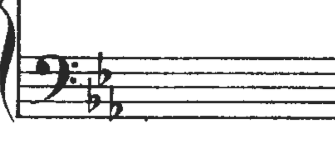bass_clef: (29, 48, 81, 109)
flat: (106, 83, 129, 127), (93, 46, 114, 90), (83, 76, 103, 115)
